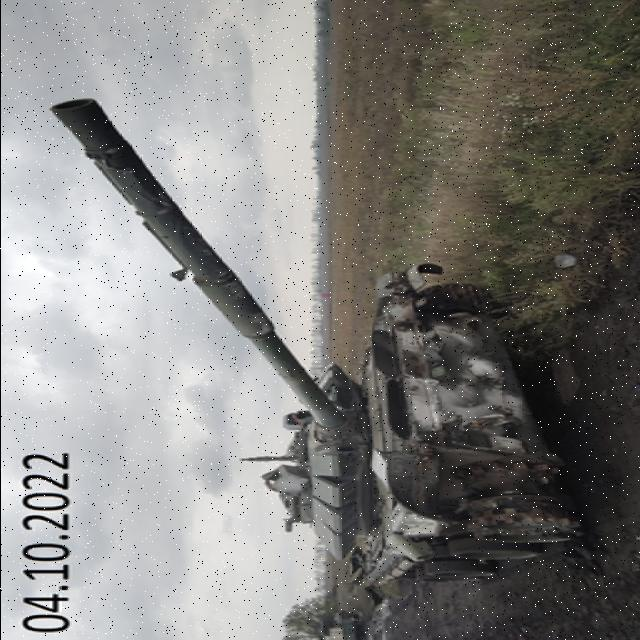TANK: (36, 95, 596, 594)
